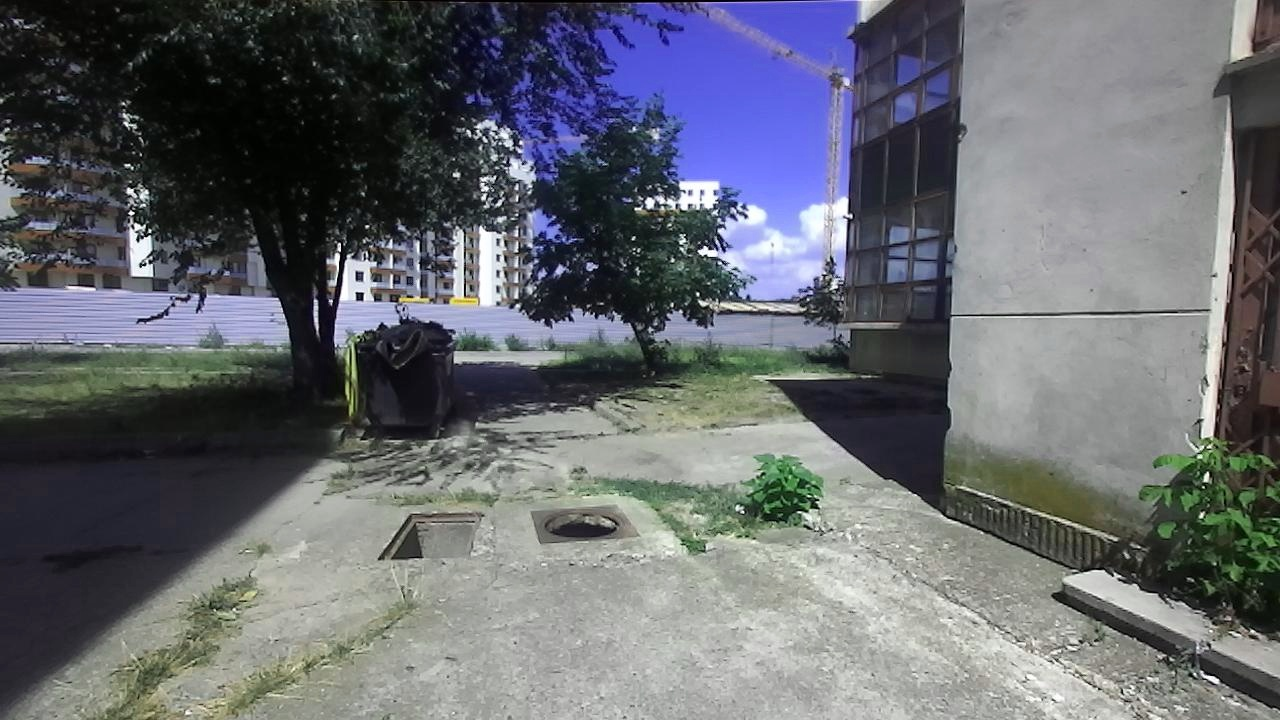drain: (376, 506, 484, 561), (540, 507, 628, 539)
